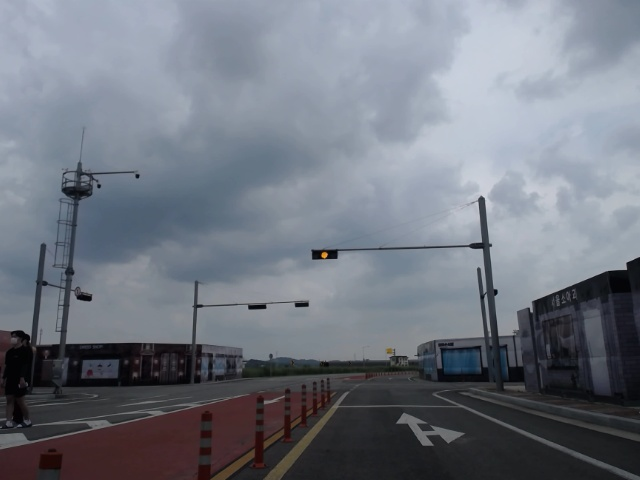orange_3: (312, 250, 338, 259)
